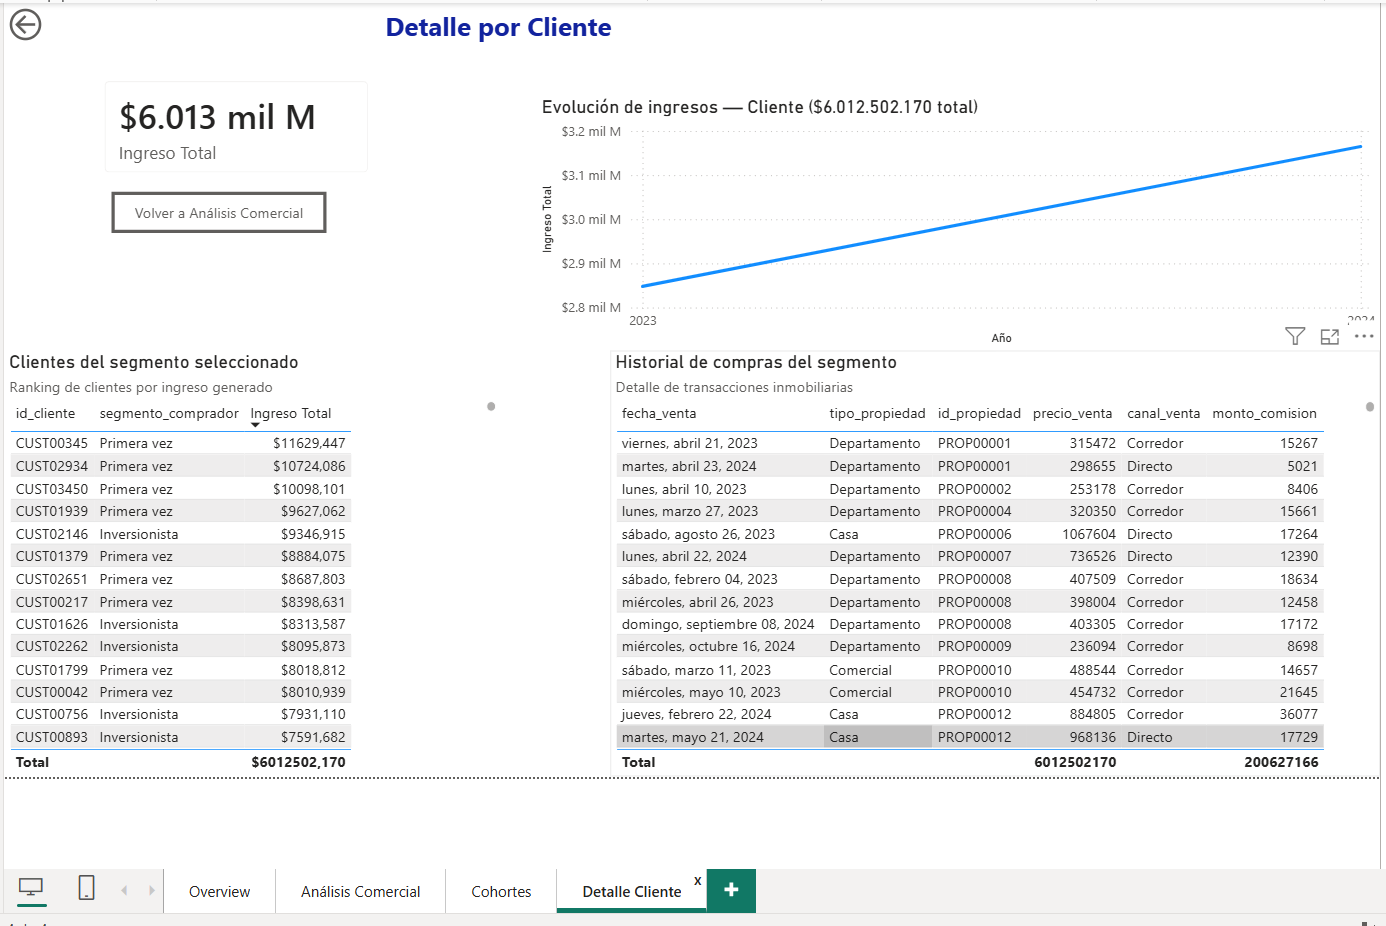

The dashboard page shown, as its layout file describes it:
{"tool":"powerbi","page":{"name":"Detalle Cliente","canvas":[1280,720],"ordinal":3},"visuals":[{"type":"cardVisual","fields":{"Data":["hecho_ventas_propiedades.Ingreso Total"]},"box":[76.7,55.8,279.1,119.8],"z":0},{"type":"textbox","box":[129.1,0,661.6,55.8],"z":1000},{"type":"lineChart","fields":{"Category":["Dim_Fecha.Date.Variación.Jerarquía de fechas.Año","Dim_Fecha.Date.Variación.Jerarquía de fechas.Trimestre","Dim_Fecha.Date.Variación.Jerarquía de fechas.Mes","Dim_Fecha.Date.Variación.Jerarquía de fechas.Día"],"Y":["hecho_ventas_propiedades.Ingreso Total"]},"box":[495.4,86,784.9,237.2],"z":2000},{"type":"tableEx","title":"Historial de compras del segmento","fields":{"Values":["hecho_ventas_propiedades.fecha_venta","dim_propiedades.tipo_propiedad","dim_propiedades.id_propiedad","Sum(hecho_ventas_propiedades.precio_venta)","hecho_ventas_propiedades.canal_venta","Sum(hecho_ventas_propiedades.monto_comision)"]},"box":[564,323.3,716.3,396.5],"z":3000},{"type":"actionButton","box":[0,0,100,40],"z":4000},{"type":"tableEx","title":"Clientes del segmento seleccionado","fields":{"Values":["dim_clientes.id_cliente","dim_clientes.segmento_comprador","hecho_ventas_propiedades.Ingreso Total"]},"box":[0,323.3,462.8,396.5],"z":5000},{"type":"actionButton","box":[100,175.6,200,38.4],"z":6000}]}

Visuals, with their boxes on the page's 1280x720 design canvas (x1, y1, x2, y2). These are canvas units, not pixel positions in the 1386x926 screenshot, which may show the page scaled, cropped or inside an application window:
cardVisual - hecho_ventas_propiedades.Ingreso Total: locate(77, 56, 356, 176)
textbox: locate(129, 0, 791, 56)
lineChart - Dim_Fecha.Date.Variación.Jerarquía de fechas.Año x Dim_Fecha.Date.Variación.Jerarquía de fechas.Trimestre: locate(495, 86, 1280, 323)
"Historial de compras del segmento" tableEx: locate(564, 323, 1280, 720)
actionButton: locate(0, 0, 100, 40)
"Clientes del segmento seleccionado" tableEx: locate(0, 323, 463, 720)
actionButton: locate(100, 176, 300, 214)
